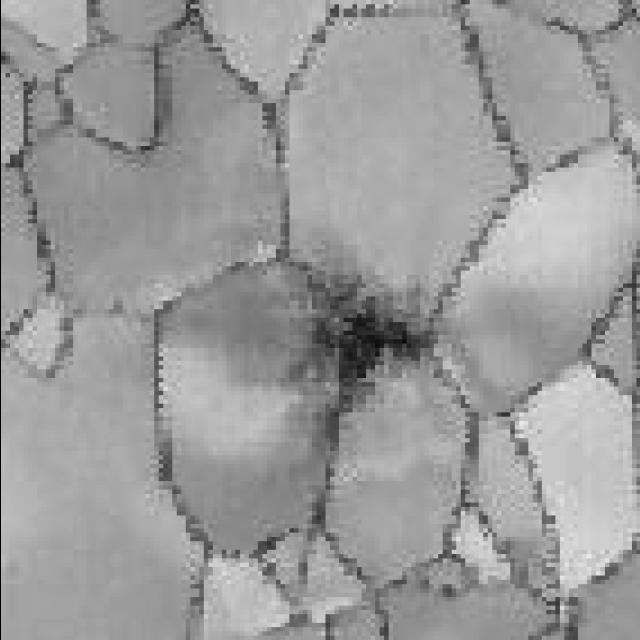good_void: (279, 252, 437, 448)
